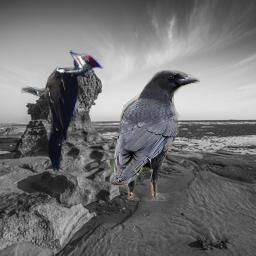Crow: (107, 70, 200, 201)
Woodpecker: (21, 50, 104, 173)
